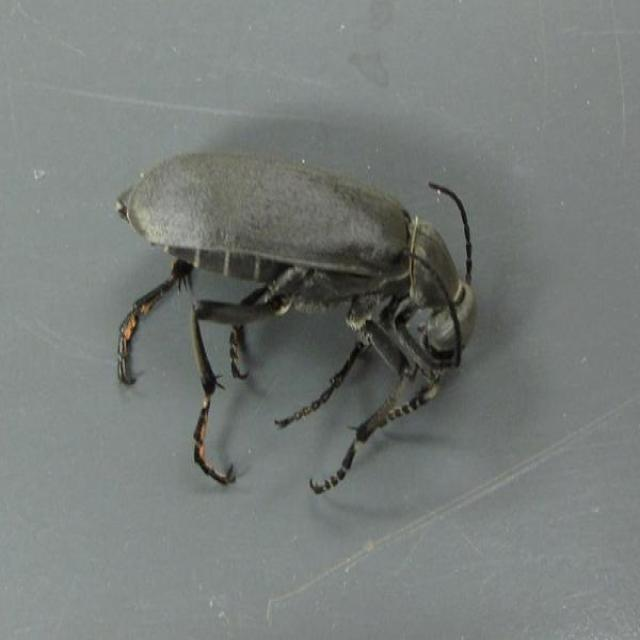BlisterBeetle-Adult-: (79, 135, 488, 499)
